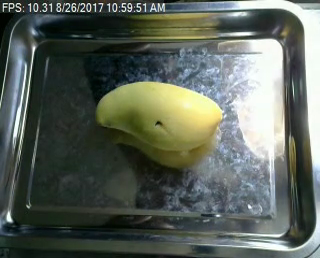Mango: (90, 77, 225, 153)
